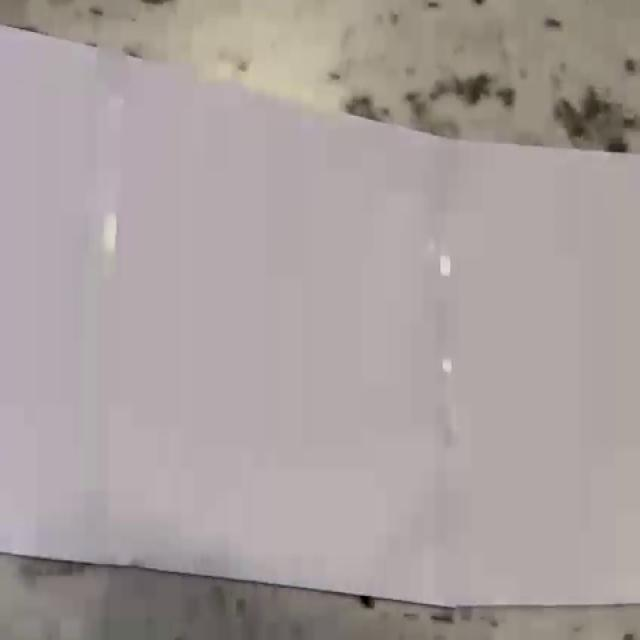road: (0, 25, 640, 607)
